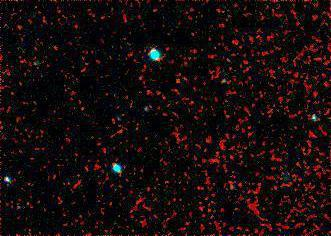star: (210, 46, 240, 76)
